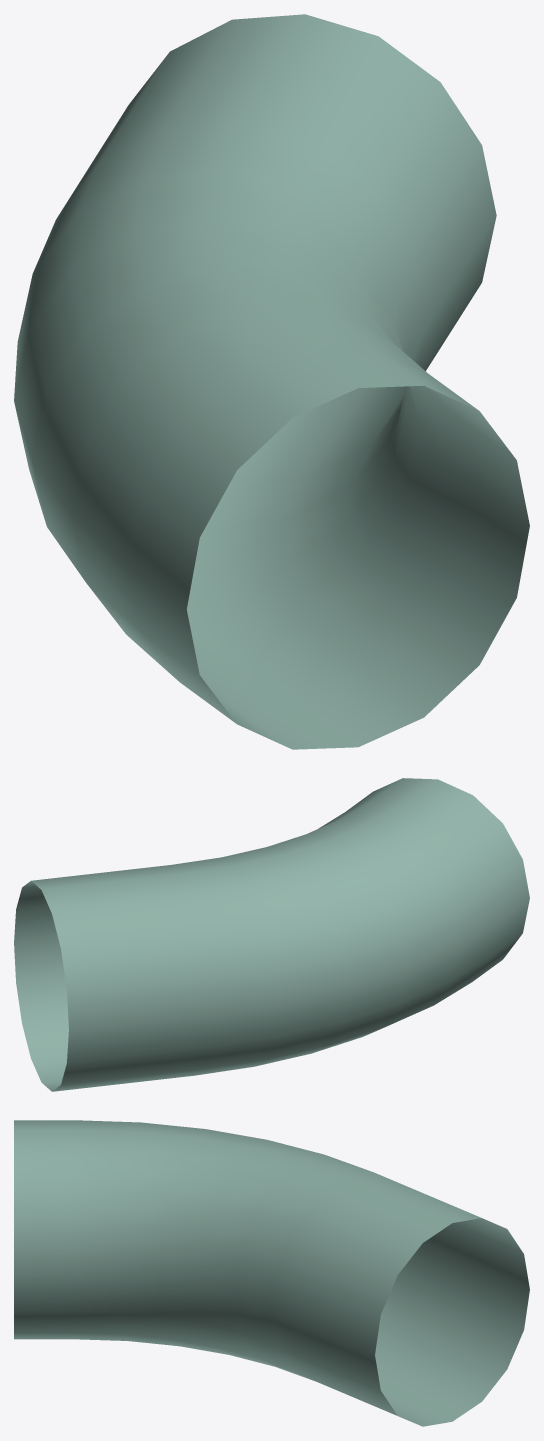
The model's file is PipeLarge_BentDeg45_02.fbx.
3 views of the same model, one above another, from view 1: azimuth 30°, elevation 25°; view 2: azimuth 150°, elevation 25°; view 3: azimuth 270°, elevation 25° (orthographic). The views are drawn at different scales.
Parts seen in each view (by area): view 1: PipeLarge_BentDeg45_02.001; view 2: PipeLarge_BentDeg45_02.001; view 3: PipeLarge_BentDeg45_02.001.
Part boxes in pixels (bbox=[...]): PipeLarge_BentDeg45_02.001: bbox=[14, 14, 529, 749]; PipeLarge_BentDeg45_02.001: bbox=[14, 778, 529, 1091]; PipeLarge_BentDeg45_02.001: bbox=[14, 1120, 529, 1426].
Size of the model in its own units: 0.3707 by 0.2 by 0.4707.
